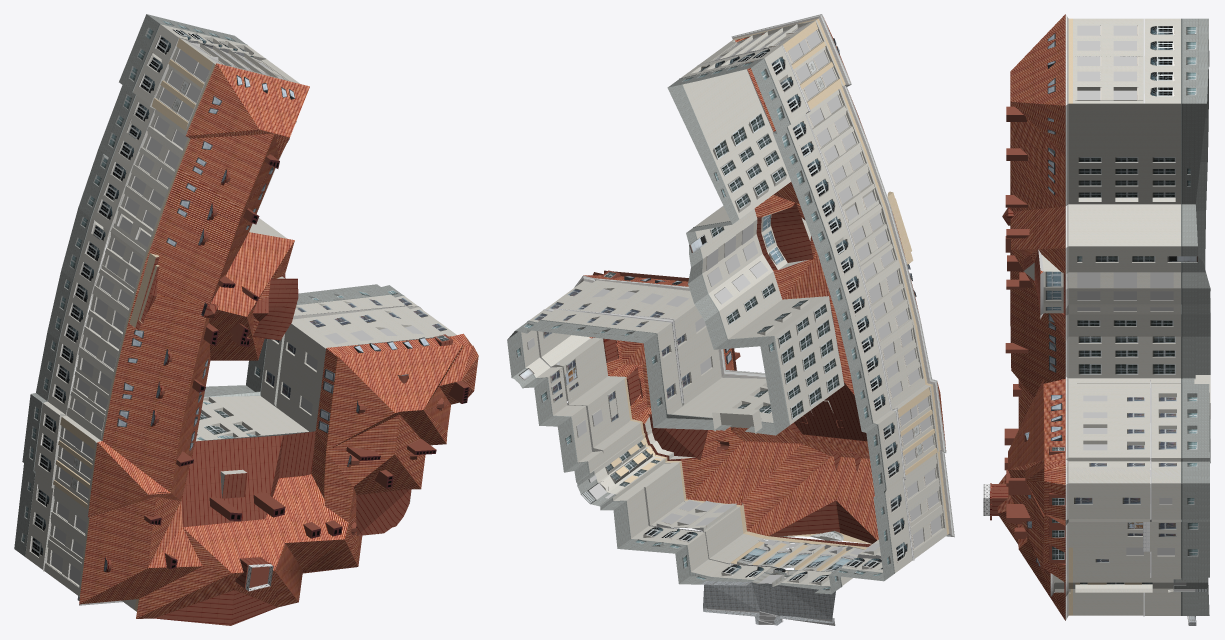
File: Estonia_pst_10-origo.obj
3 renders of one model, left to right at view 1: azimuth 30°, elevation 25°; view 2: azimuth 150°, elevation 25°; view 3: azimuth 270°, elevation 25°, orthographic. The views are drawn at different scales.
Parts seen in each view (by area): view 1: Estonia_pst_10; view 2: Estonia_pst_10; view 3: Estonia_pst_10.
Boxes of the visible parts, bbox=[...] form: Estonia_pst_10: bbox=[14, 14, 478, 625]; Estonia_pst_10: bbox=[507, 14, 954, 625]; Estonia_pst_10: bbox=[983, 14, 1210, 625].
Bounding box in the file's own units: 53.62 × 76 × 26.78.
